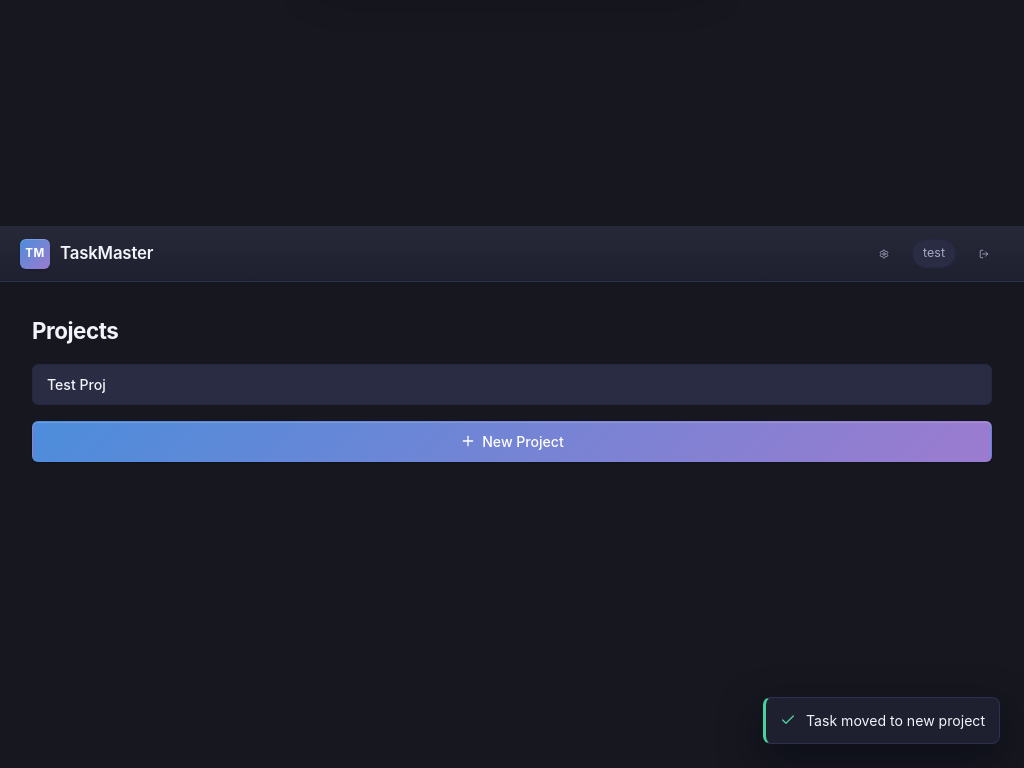
App › task cards expose only Edit and Delete controls (no Move / Move-to-new-project)
(page scrolled)
Click the button "Test Proj" at (76, 384), box [32,364,992,405]
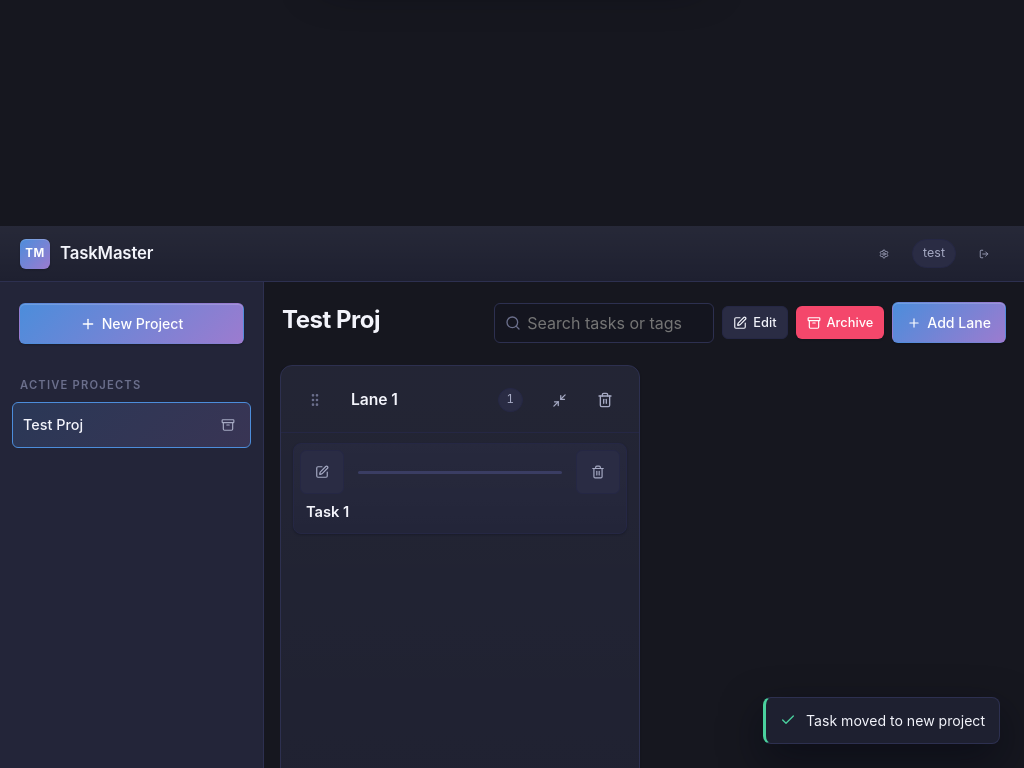
Expected: the text "Task 1" is shown, [306,503,349,521]
Expected: the button named "Edit task Task 1" is shown, [300,450,344,494]
Expected: the button named "Delete task Task 1" is shown, [576,450,620,494]
